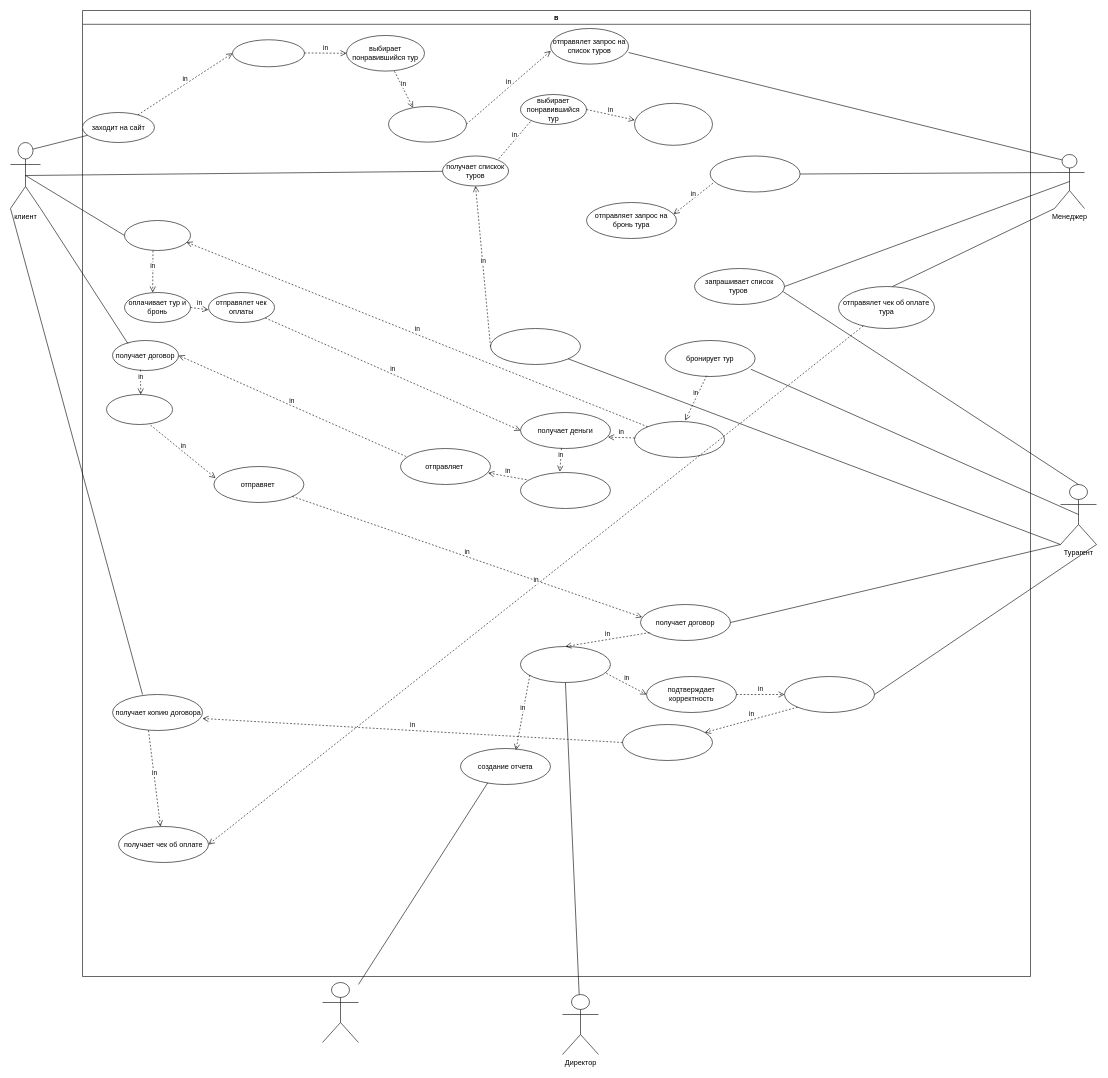
Some shapes in this 1108 by 1078 pixel diagram are drawn without their labels. The centre of each missing label's shape, as x and y in pixels:
"Бухгалтер" goes at (x=340, y=1012).
"заполняет" goes at (x=139, y=409).
"отправляет копию" goes at (x=667, y=742).
"отправляет спискок туров" goes at (x=535, y=346).
"отправляет счет на оплату" goes at (x=679, y=439).
"отправялет запрос на бронь менеджеру" goes at (x=673, y=124).
"пересылает копию договора" goes at (x=829, y=694).
"получает счет на оплату" goes at (x=157, y=235).
"проверка договора" goes at (x=565, y=664).
"проходит регистрацию" goes at (x=427, y=124).
"рассматривает каталог" goes at (x=268, y=53).
"связывается с турагентом" goes at (x=755, y=173).
"составляет договор" goes at (x=565, y=490).
